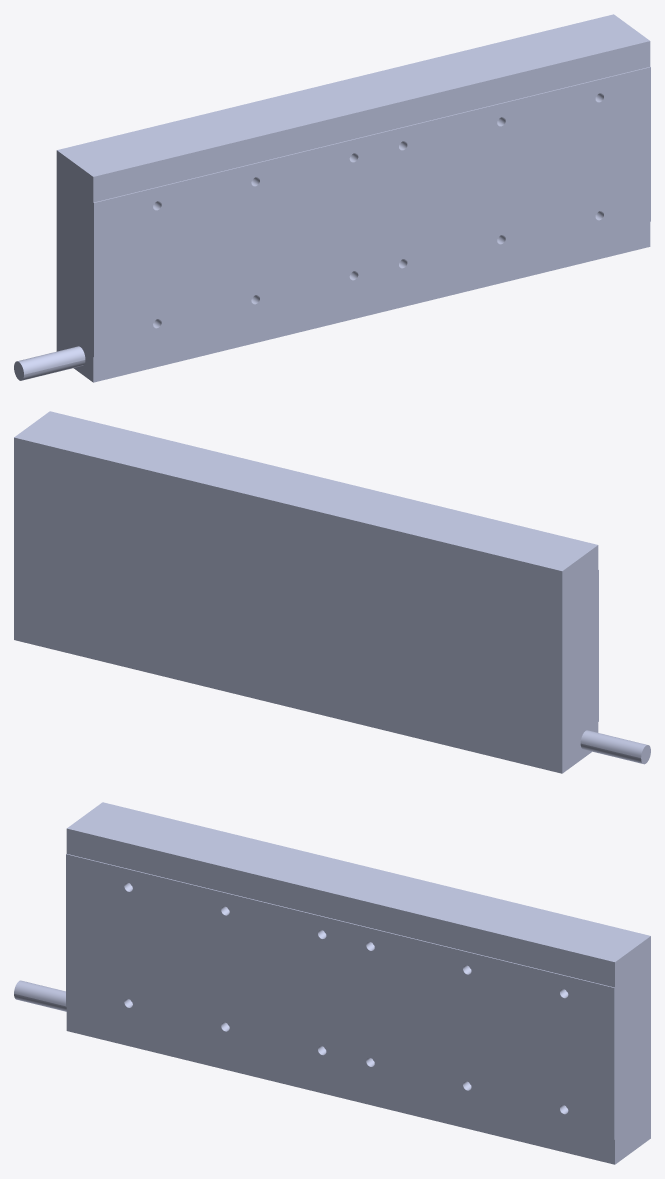
The model's file is MTK-15.glb.
The picture shows the model from 3 angles, top to bottom: view 1: azimuth 30°, elevation 25°; view 2: azimuth 150°, elevation 25°; view 3: azimuth 330°, elevation 25°; orthographic projection.
Parts seen in each view (by area): view 1: MTK-15_node_1; view 2: MTK-15_node_1; view 3: MTK-15_node_1.
Boxes of the visible parts, x1,y1,x2,y2 form: MTK-15_node_1: [14, 14, 650, 382]; MTK-15_node_1: [14, 411, 650, 773]; MTK-15_node_1: [14, 802, 650, 1164].
Size of the model in its own units: 302 by 96 by 31.4.
